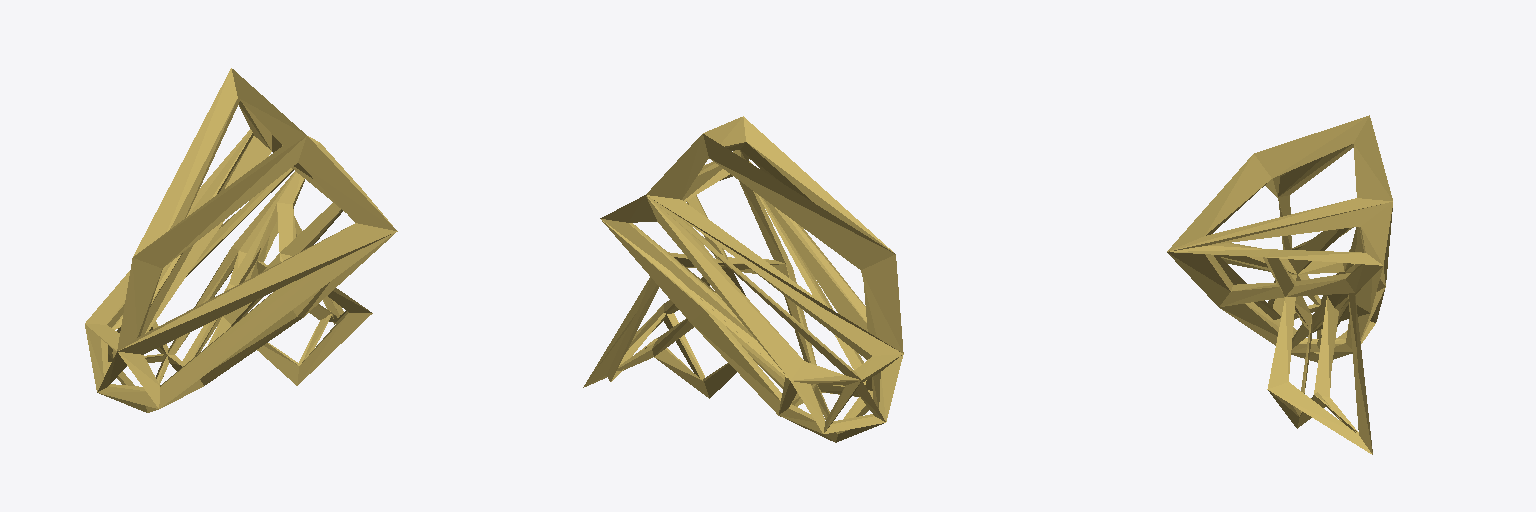
Rendered from kiki-museum.obj.
3 views of the same model, side by side, from view 1: azimuth 30°, elevation 25°; view 2: azimuth 150°, elevation 25°; view 3: azimuth 270°, elevation 25° (orthographic).
Parts seen in each view (by area): view 1: Icosphere.002; view 2: Icosphere.002; view 3: Icosphere.002.
Part boxes in pixels (bbox=[...]): Icosphere.002: bbox=[85, 68, 397, 412]; Icosphere.002: bbox=[583, 116, 903, 442]; Icosphere.002: bbox=[1167, 115, 1392, 454].
Bounding box in the file's own units: 5.55 × 5.76 × 3.93.